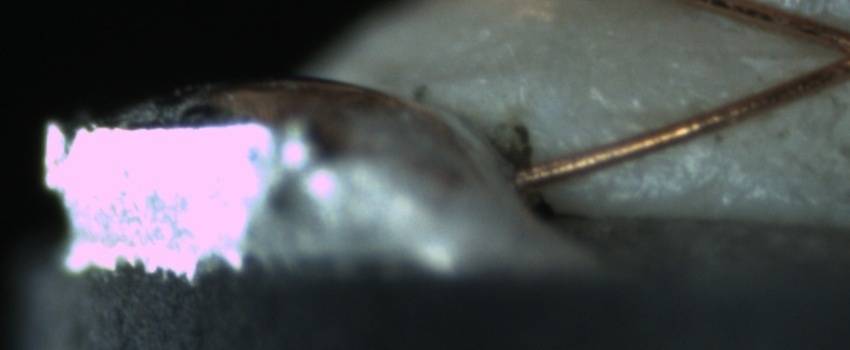CL: (806, 14, 850, 86)
